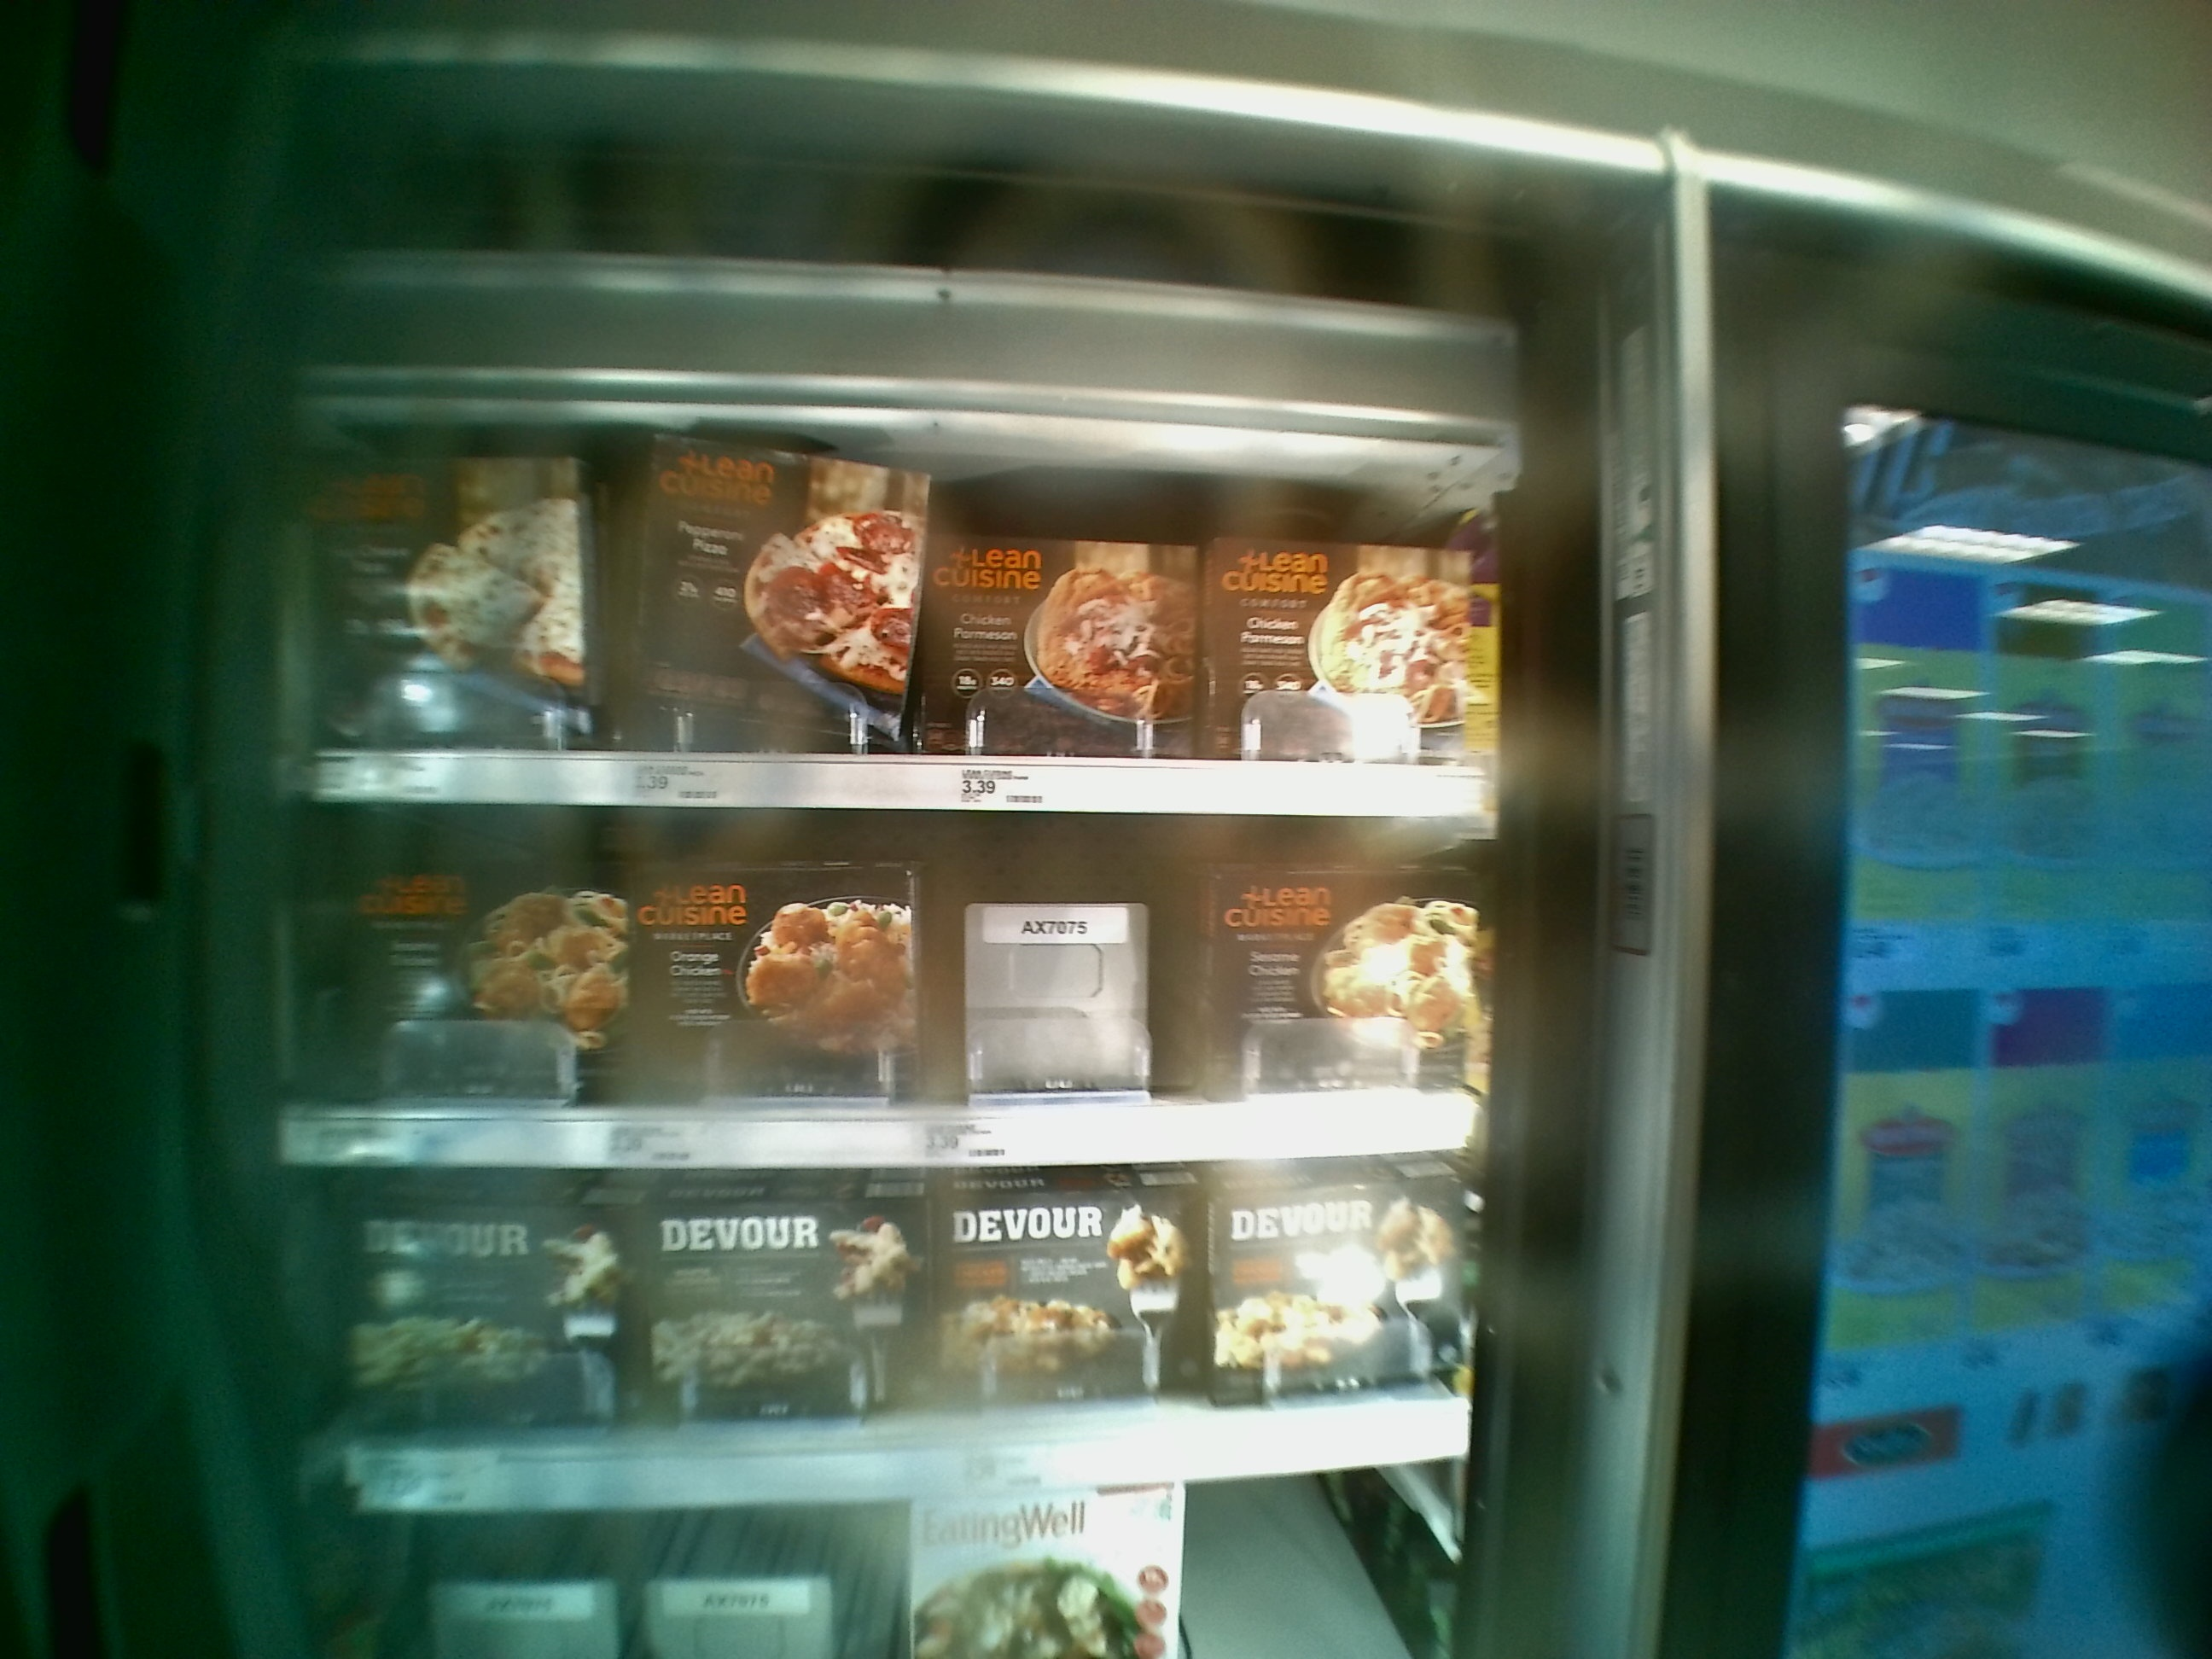shelf: (284, 396, 1480, 817), (280, 807, 1475, 1161), (280, 1166, 1480, 1514)
